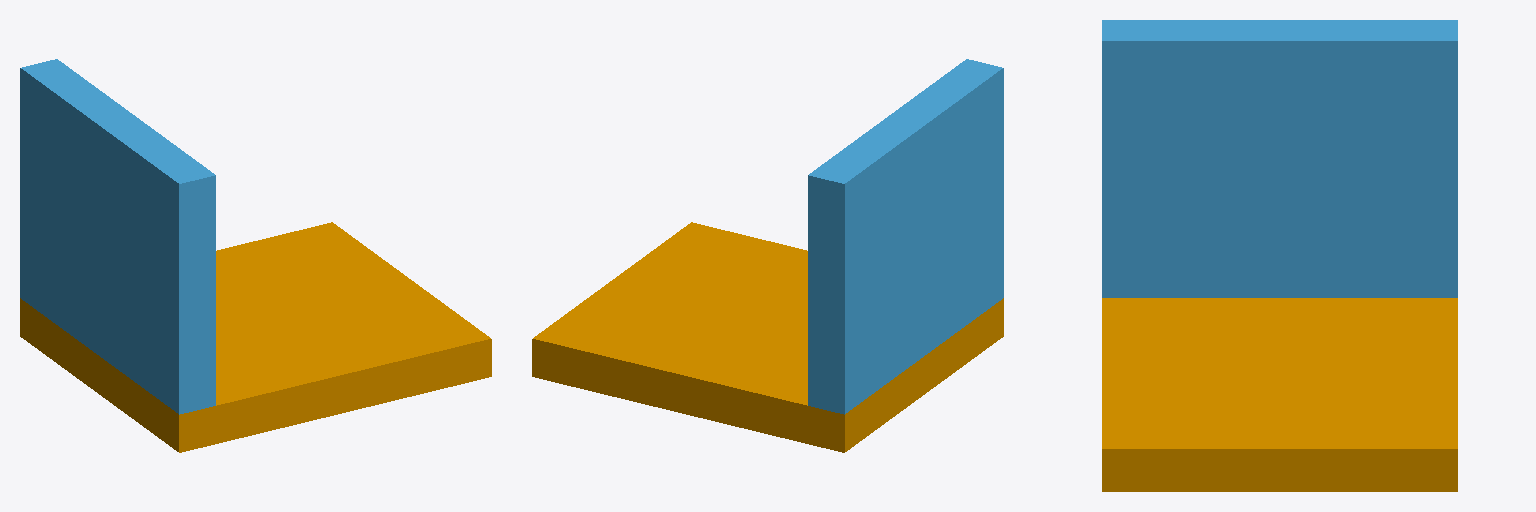
robot.urdf — Lshape/Lshape:
<?xml version="1.0"?>
<robot name="Lshape/Lshape">
 <link name="link1">
  <inertial>
    <mass value="1"/>
    <inertia ixx="0.244166666667" ixy="0" ixz="0" iyy="0.428333333333" iyz="0" izz="0.190833333333"/>
  </inertial>
  <visual>
    <origin rpy="0 0 0" xyz="0 0 0"/>
    <geometry>
      <box size="1.7 1.5 0.2"/>
    </geometry>
  </visual>
  <collision>
    <origin rpy="0 0 0" xyz="0 0 0"/>
    <geometry>
      <box size="1.7 1.5 0.2"/>
    </geometry>
  </collision>
 </link>

 <link name="link2">
  <inertial>
    <mass value="1"/>
    <inertia ixx="0.123333333333" ixy="0" ixz="0" iyy="0.190833333333" iyz="0" izz="0.3075"/>
  </inertial>
  <visual>
    <origin rpy="0 0 0" xyz="-0.75 0 0.7"/>
    <geometry>
      <box size="0.2 1.5 1.2"/>
    </geometry>
  </visual>
  <collision>
    <origin rpy="0 0 0" xyz="-0.75 0 0.7"/>
    <geometry>
      <box size="0.2 1.5 1.2"/>
    </geometry>
  </collision>
 </link>

<joint name="joint_link1_link2" type="fixed">
  <origin rpy="0 0 0" xyz="0 0 0"/>
  <parent link="link1"/>
  <child link="link2"/>
</joint>

  <klampt package_root="../../.." default_acc_max="4" >
  </klampt>
</robot>

--- Facts derived from the render (not from the file) ---
The picture shows the robot from 3 angles, left to right: view 1: azimuth 30°, elevation 25°; view 2: azimuth 150°, elevation 25°; view 3: azimuth 270°, elevation 25°; orthographic projection.
Model Lshape/Lshape with 2 links and 1 joints (1 fixed), rooted at link1, posed every joint at zero.
Links seen in each view (by area): view 1: link2, link1; view 2: link2, link1; view 3: link2, link1.
Link boxes in pixels (<box>): link2: <box>20,59,215,414</box>; link1: <box>20,222,491,452</box>; link2: <box>808,59,1003,414</box>; link1: <box>532,222,1003,452</box>; link2: <box>1102,20,1457,297</box>; link1: <box>1102,298,1457,491</box>.
Bounding box of the posed robot: 1.7 × 1.5 × 1.4 m (x, y, z).
Geometry: primitives only (box / cylinder / sphere), no mesh files.